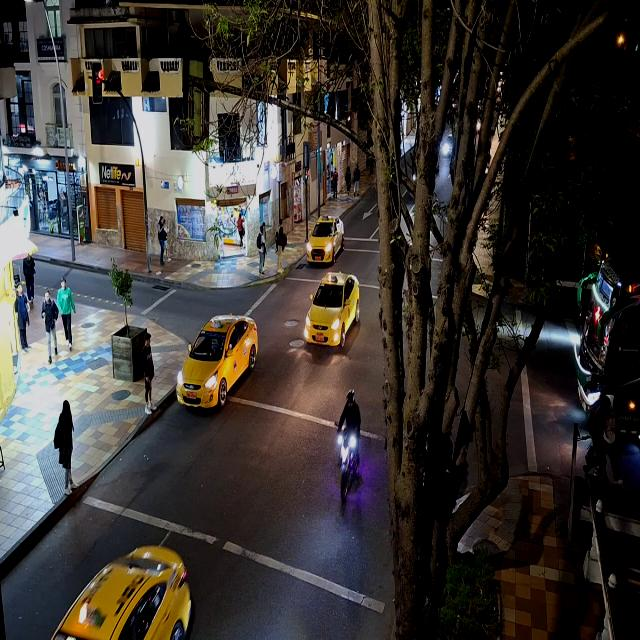BUS: (577, 246, 638, 438)
MOTORCYCLE: (336, 424, 356, 504)
SED: (49, 542, 193, 638), (179, 312, 261, 410), (300, 268, 360, 346), (306, 214, 344, 262)
